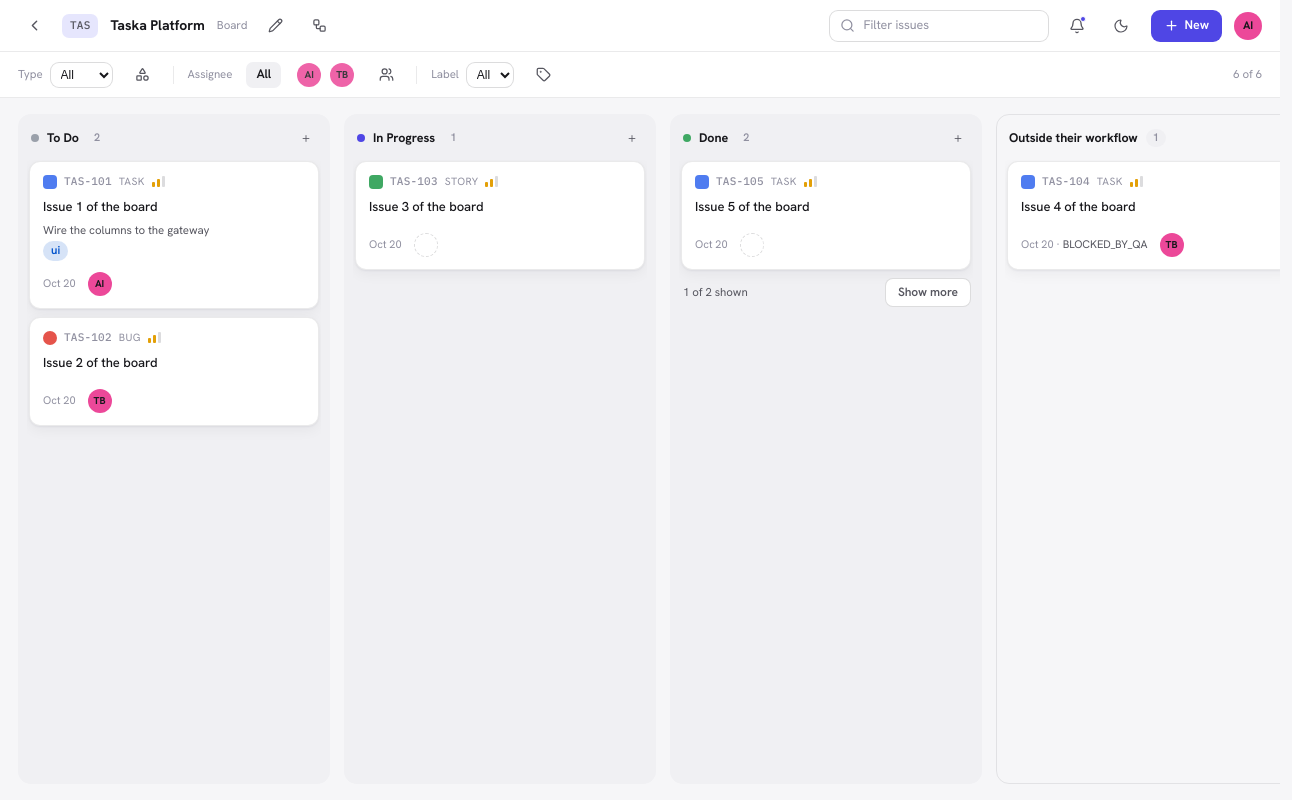
Test: the request budget of /projects and the board, and of coming back to the tab › reads one column page per Show more, after the last card drawn, and nothing else
This screenshot has width=1292, height=800.
Click the button with aria-label "Show more Done issues" at (928, 293), box [885, 278, 971, 307]
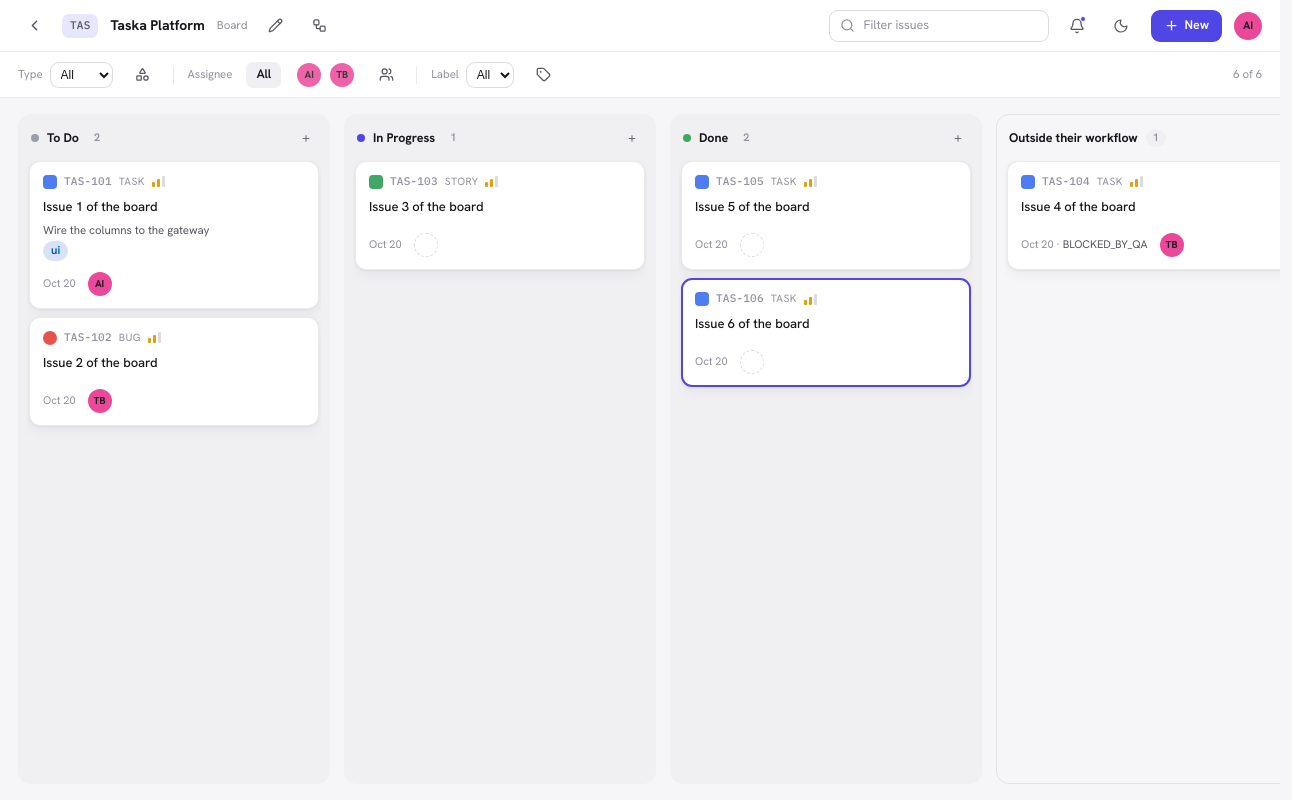
Result: the button "TAS-106 Task Issue 6 of the board Oct 20" is shown at [681, 278, 971, 387]
